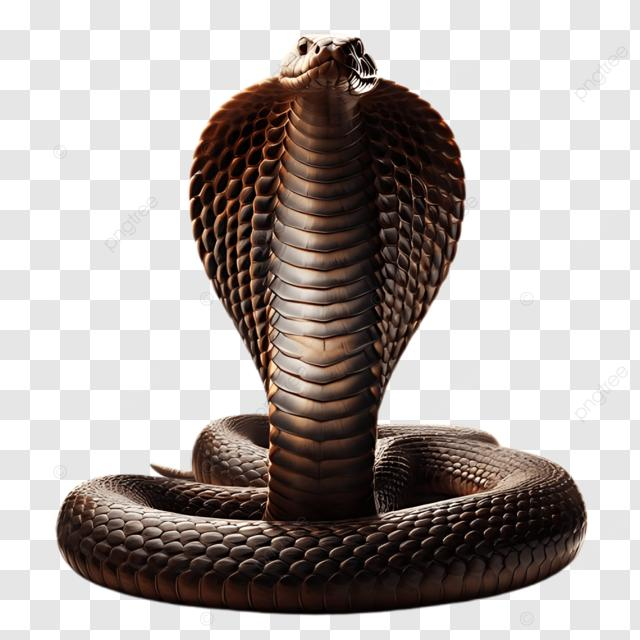Venomous: (162, 31, 480, 404)
